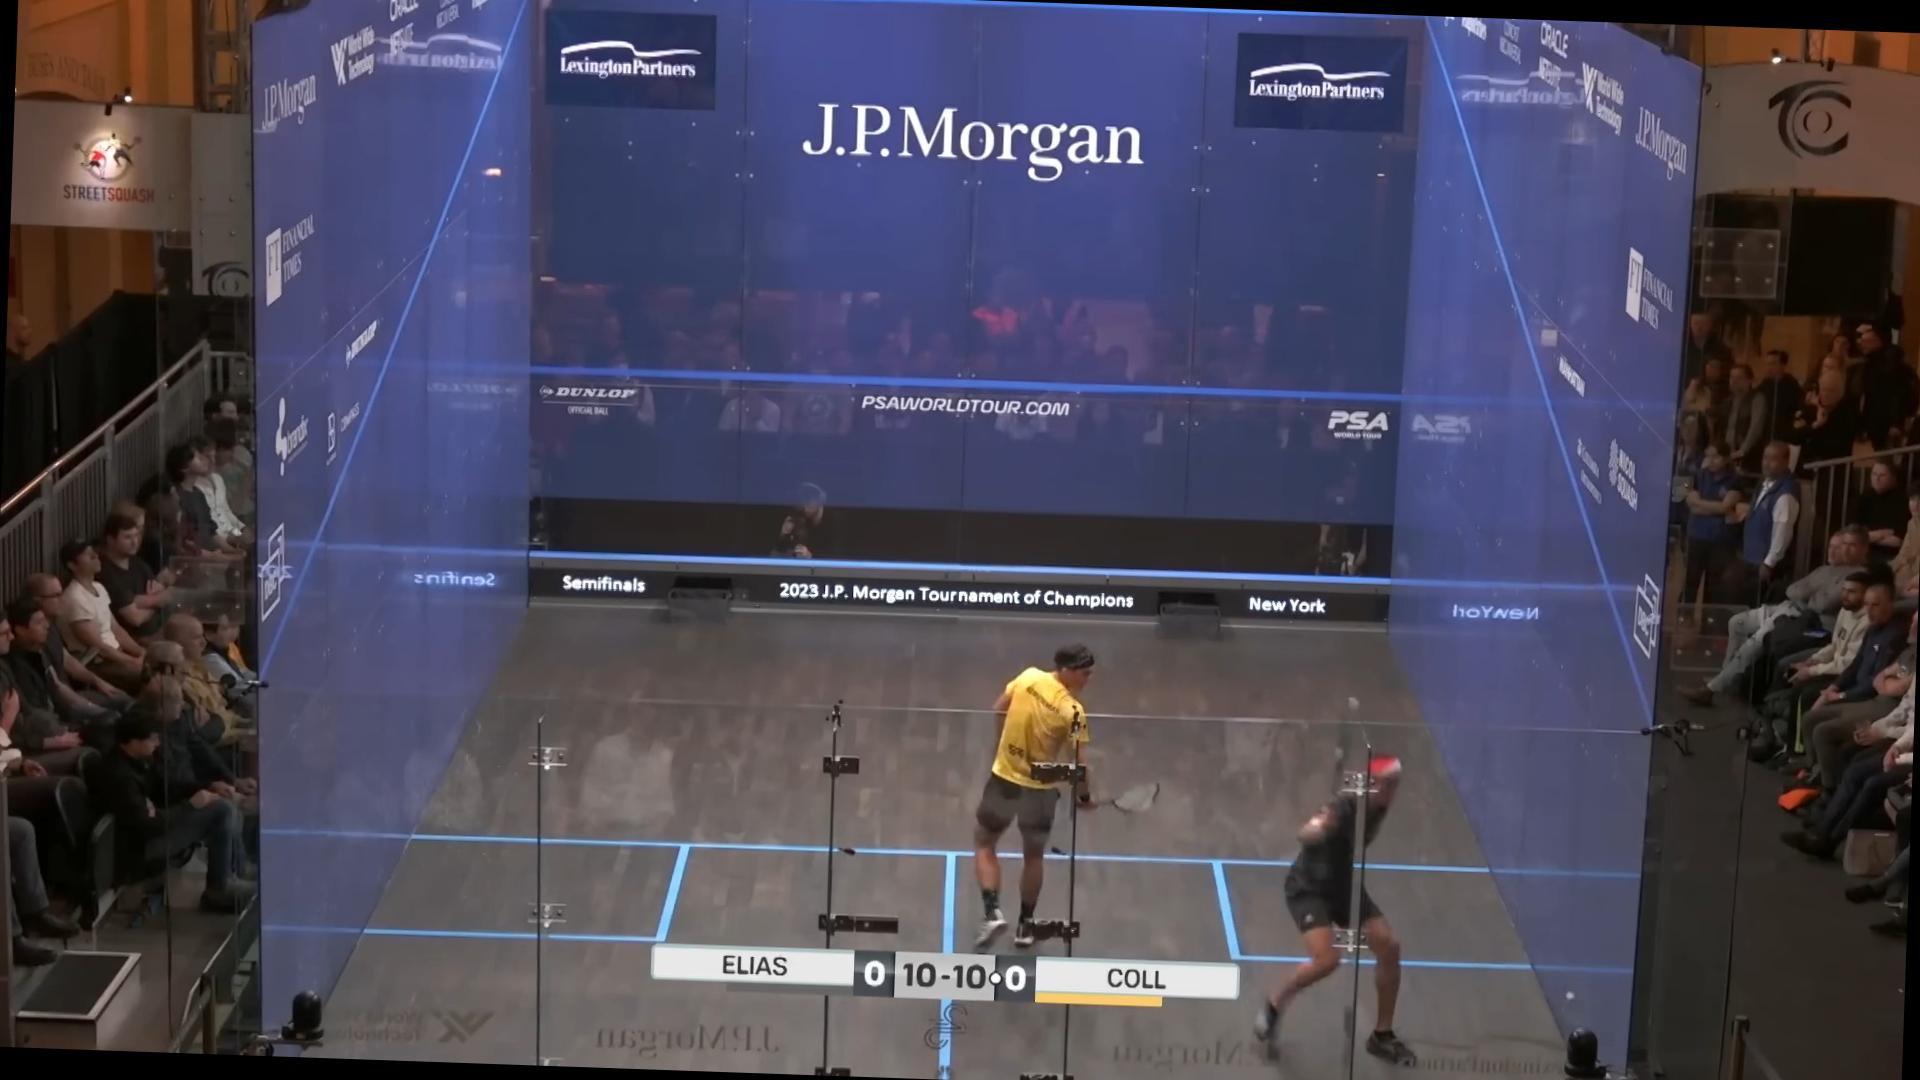Racket: (1079, 771, 1174, 820)
